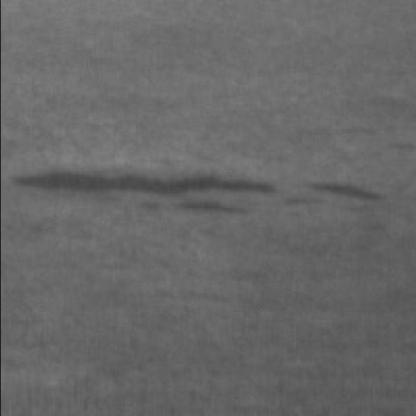inclusion: (13, 158, 287, 218), (289, 169, 391, 212)
